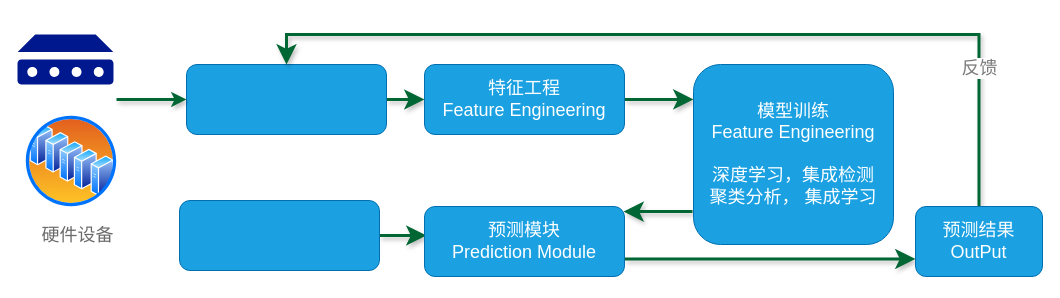
This 1060x298 diagram has some shape labels left out. Each missing label, with the centre of its shape:
"实时数据 Real-time Data" goes at [279,235].
"数据采集以及预处理 Data Pre-processing" goes at [286,99].
